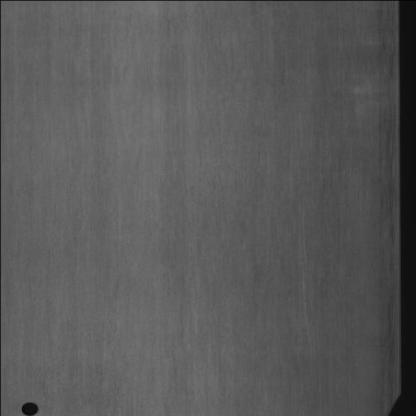crescent_gap: (384, 381, 402, 416)
punching_hole: (19, 400, 38, 416)
